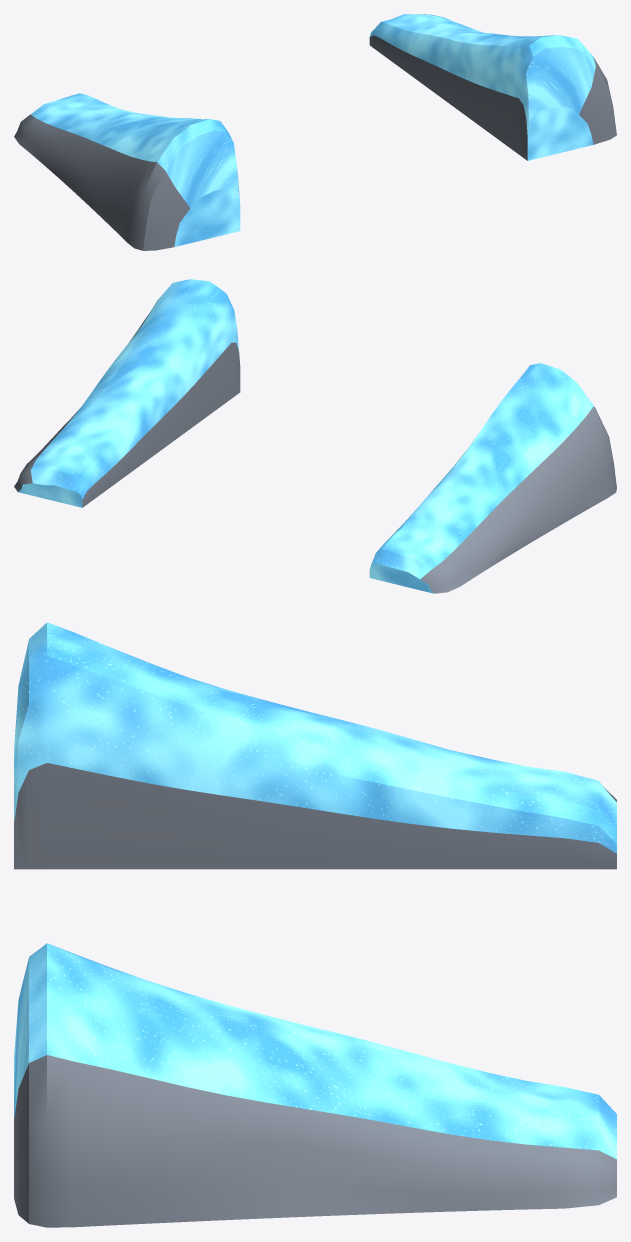
Rendered from SM_IceLip_Sides.glb.
The picture shows the model from 3 angles, top to bottom: view 1: azimuth 30°, elevation 25°; view 2: azimuth 150°, elevation 25°; view 3: azimuth 270°, elevation 25°; orthographic projection. The views are drawn at different scales.
Visible parts, largest first — view 1: SM_IceLip_Sides; view 2: SM_IceLip_Sides; view 3: SM_IceLip_Sides.
Part boxes in pixels (x1,y1,x2,y2): SM_IceLip_Sides: [14, 14, 616, 250]; SM_IceLip_Sides: [14, 279, 616, 593]; SM_IceLip_Sides: [14, 622, 616, 1227].
Size of the model in its own units: 7.05 by 1.56 by 4.
Materials: 2 (1 with a texture image).
